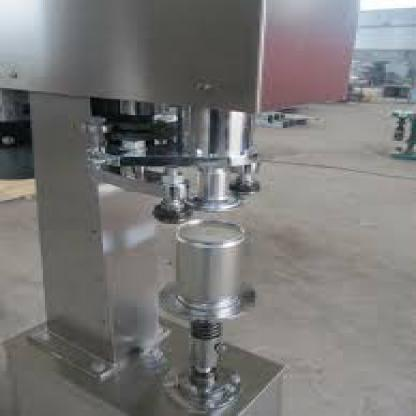METAL: (0, 0, 258, 113), (30, 93, 109, 360), (2, 346, 227, 414), (103, 96, 159, 360), (257, 0, 358, 112), (184, 106, 246, 208), (174, 219, 244, 309), (212, 368, 283, 414), (156, 168, 184, 218)
